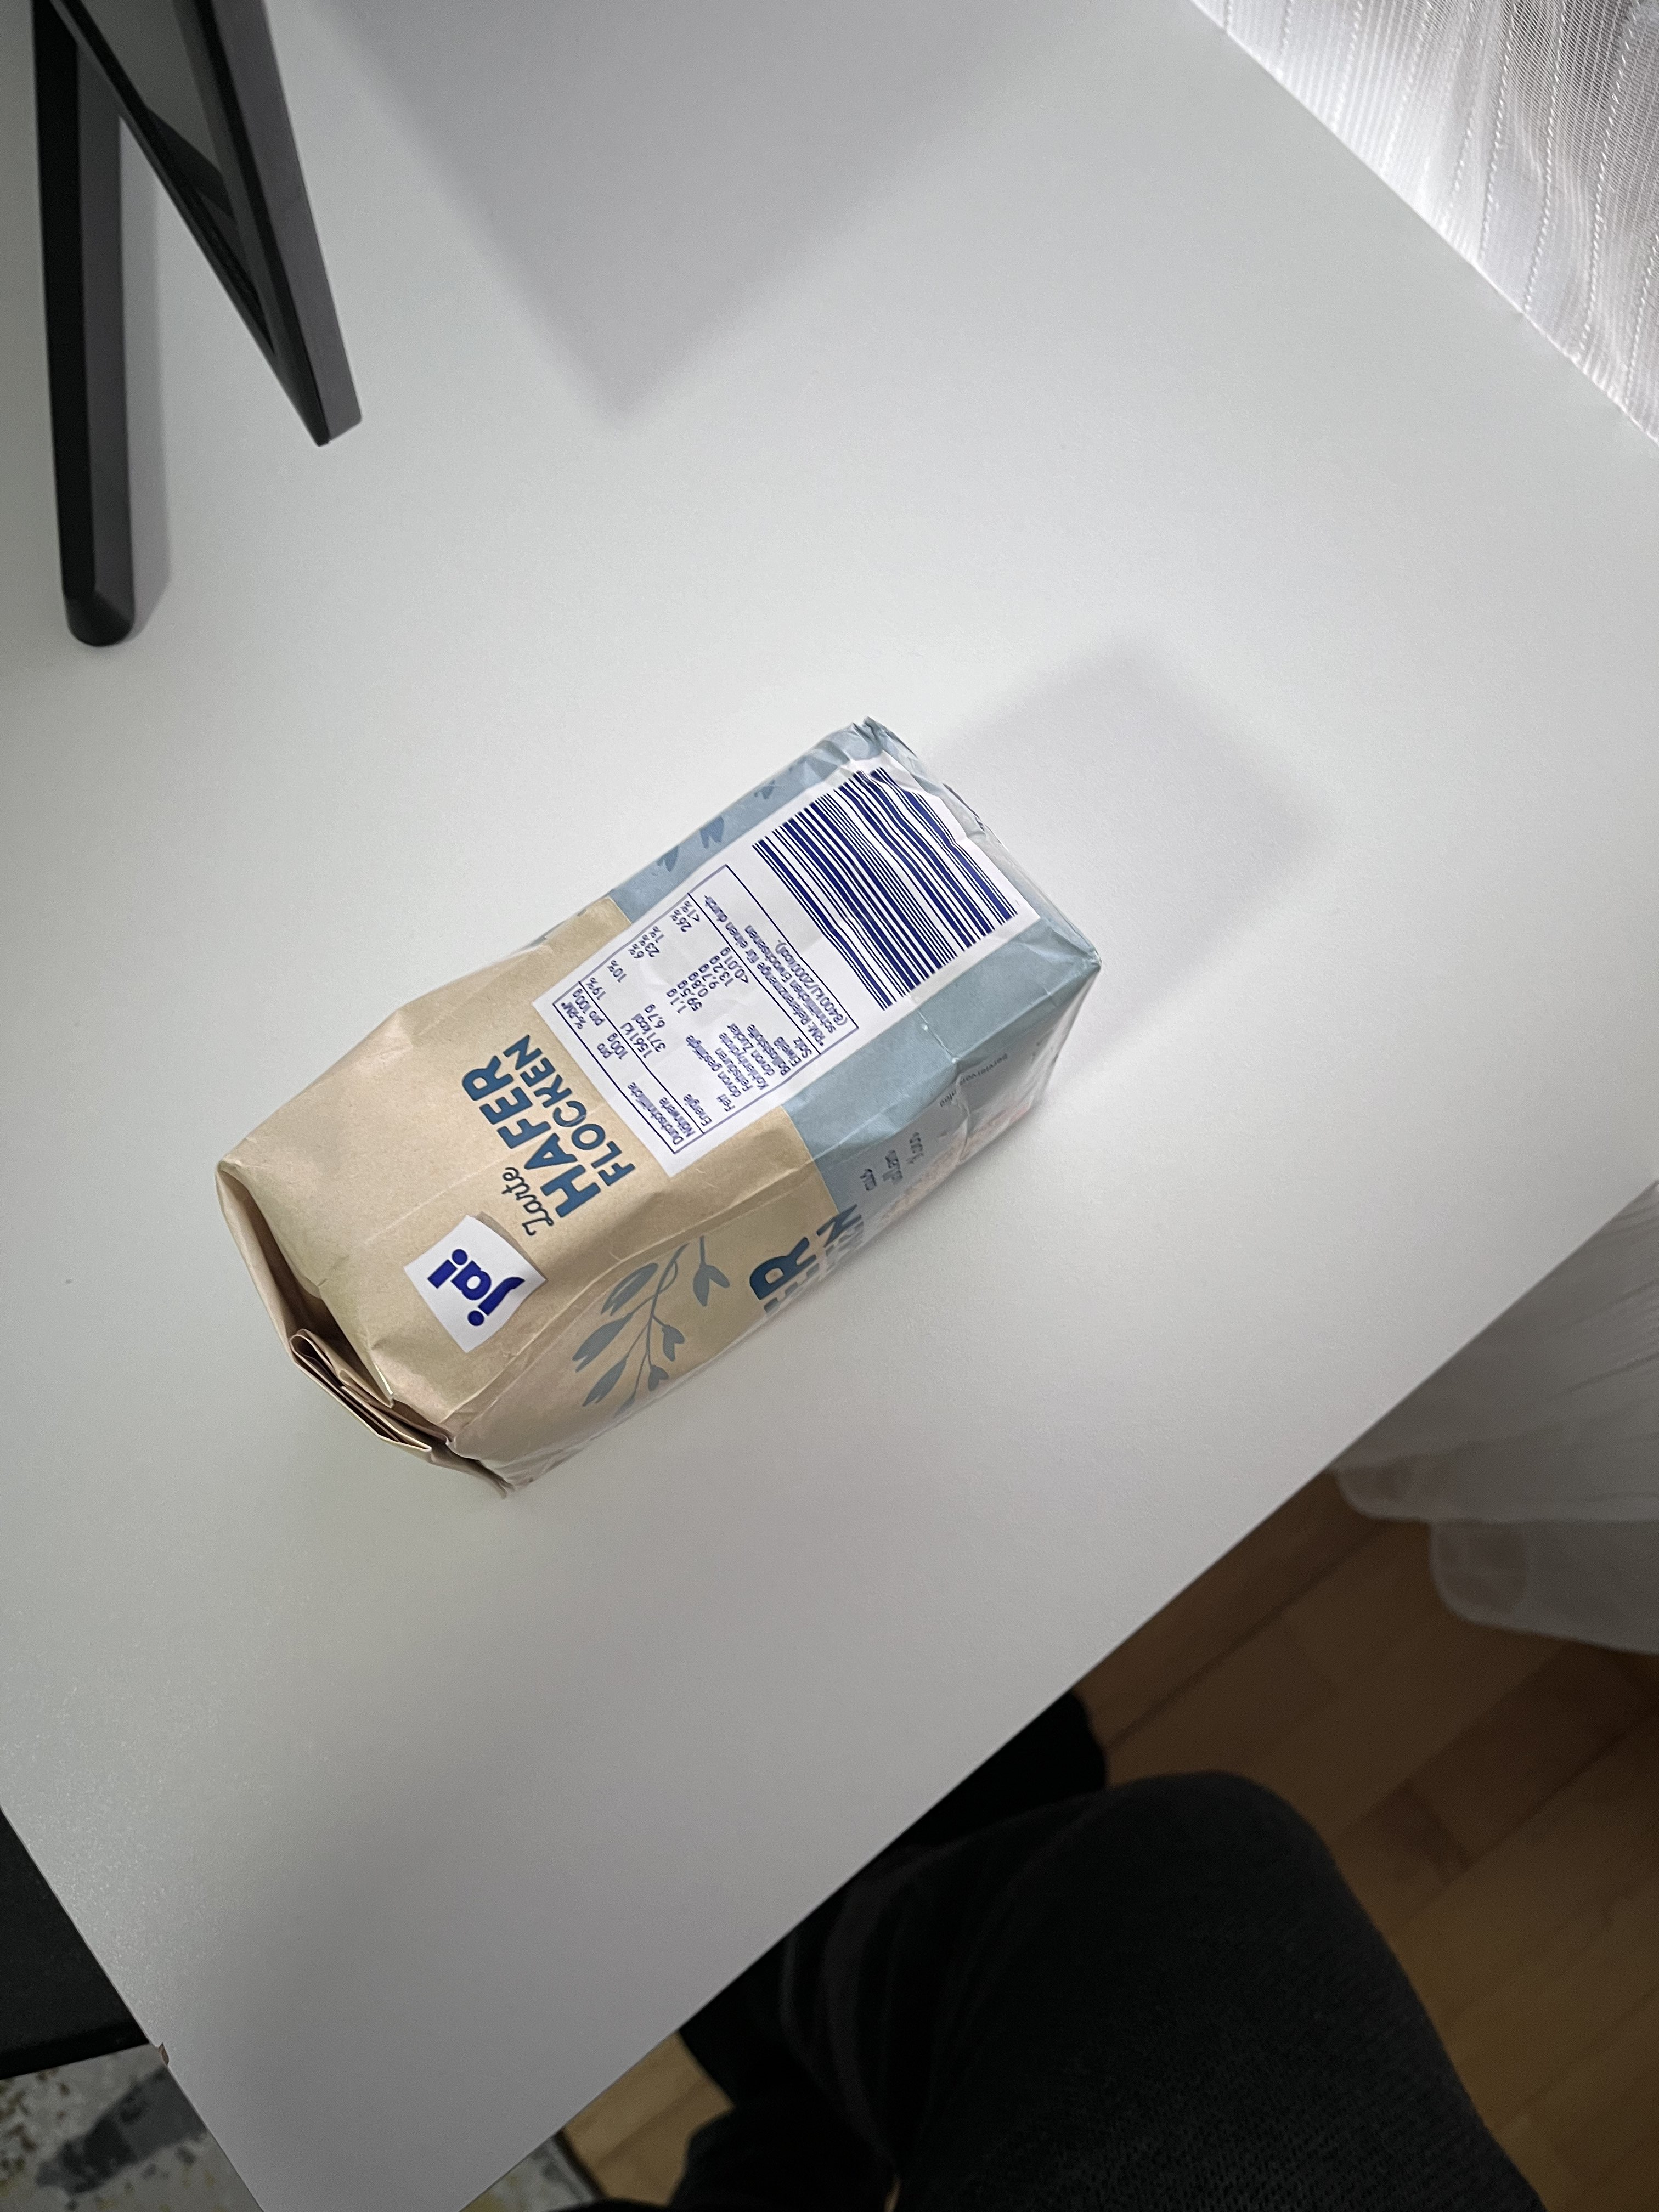haferflocken_ja: (220, 718, 1105, 1498)
